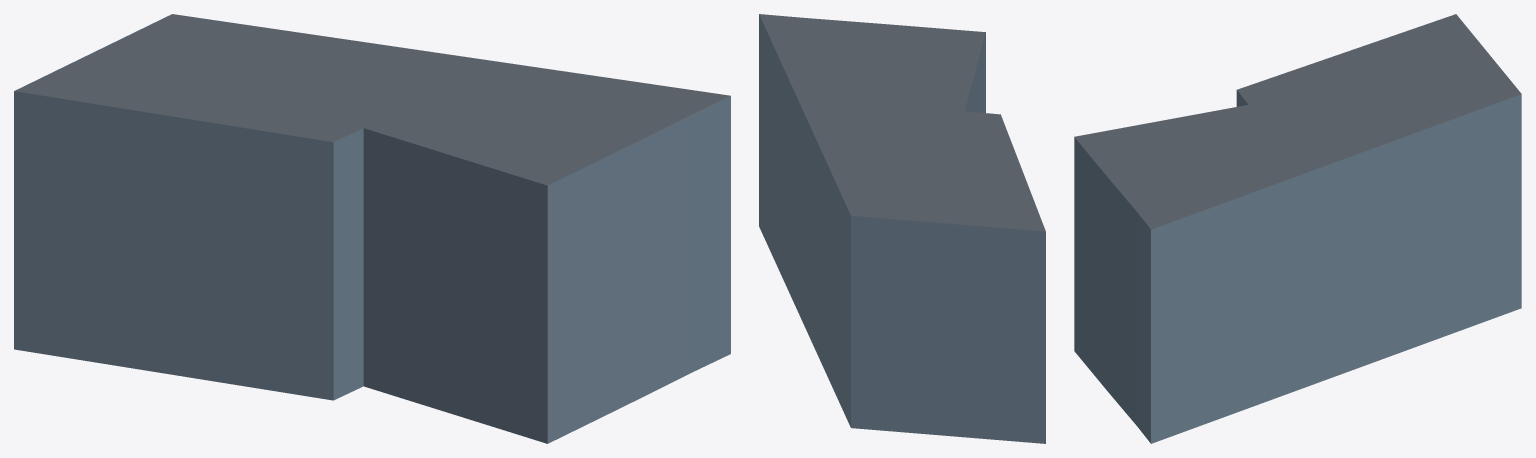
3 renders of one model, left to right at view 1: azimuth 30°, elevation 25°; view 2: azimuth 150°, elevation 25°; view 3: azimuth 270°, elevation 25°, orthographic. The views are drawn at different scales.
Visible parts, largest first — view 1: HP-w446933520; view 2: HP-w446933520; view 3: HP-w446933520.
Boxes of the visible parts, x1,y1,x2,y2 form: HP-w446933520: (14,14,730,443); HP-w446933520: (759,14,1045,443); HP-w446933520: (1074,14,1521,443).
Bounding box in the file's own units: 90.24 × 41.8 × 79.12.
